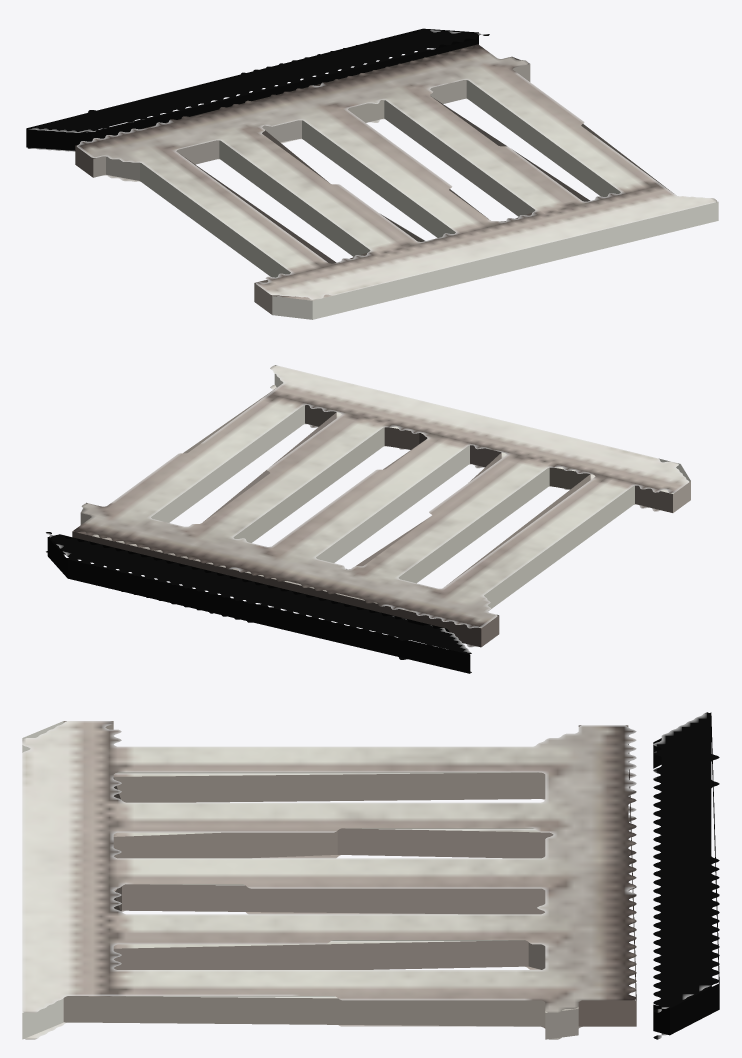
The model's file is pz_native_fixtures_railings_01_65_frame.obj.
The picture shows the model from 3 angles, top to bottom: view 1: azimuth 30°, elevation 25°; view 2: azimuth 150°, elevation 25°; view 3: azimuth 270°, elevation 25°; orthographic projection. The views are drawn at different scales.
Visible parts, largest first — view 1: pz_native_fixtures_railings_01_65_frame; view 2: pz_native_fixtures_railings_01_65_frame; view 3: pz_native_fixtures_railings_01_65_frame.
Part boxes in pixels (x1,y1,x2,y2): pz_native_fixtures_railings_01_65_frame: [26, 28, 718, 319]; pz_native_fixtures_railings_01_65_frame: [46, 365, 690, 673]; pz_native_fixtures_railings_01_65_frame: [22, 712, 719, 1039].
Bounding box in the file's own units: 1.12 × 0.045 × 1.1.
Materials: 1 (1 with a texture image).
